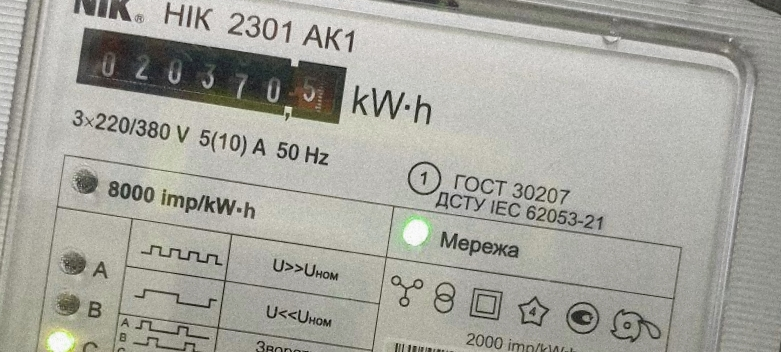0: (262, 73, 284, 105), (97, 47, 118, 78), (165, 55, 184, 85)
2: (131, 50, 153, 83)
3: (198, 58, 218, 90)
5: (299, 71, 321, 105)
7: (229, 69, 249, 101)
screen: (66, 19, 356, 134)
